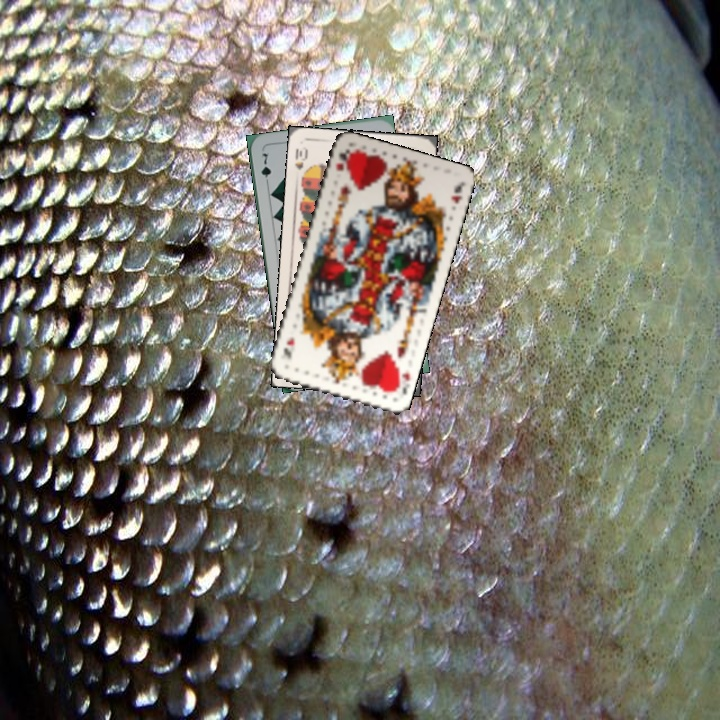G7: (257, 149, 274, 188)
HK: (388, 362, 413, 398), (331, 146, 353, 174)
S10: (291, 143, 310, 183)
